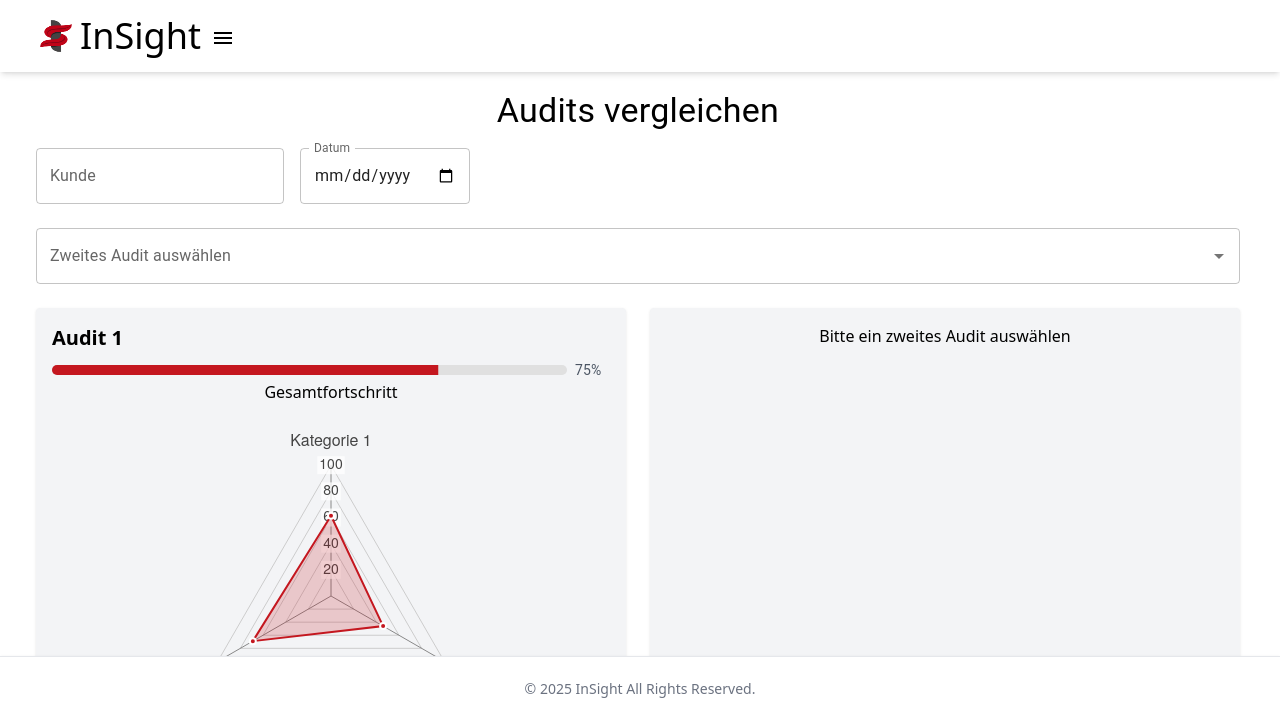
Test case: CompareAudits Page › validates the radar chart for the second audit
Click the button named "Open" at [1219, 256], box top-left (1205, 242), bottom-right (1233, 270)
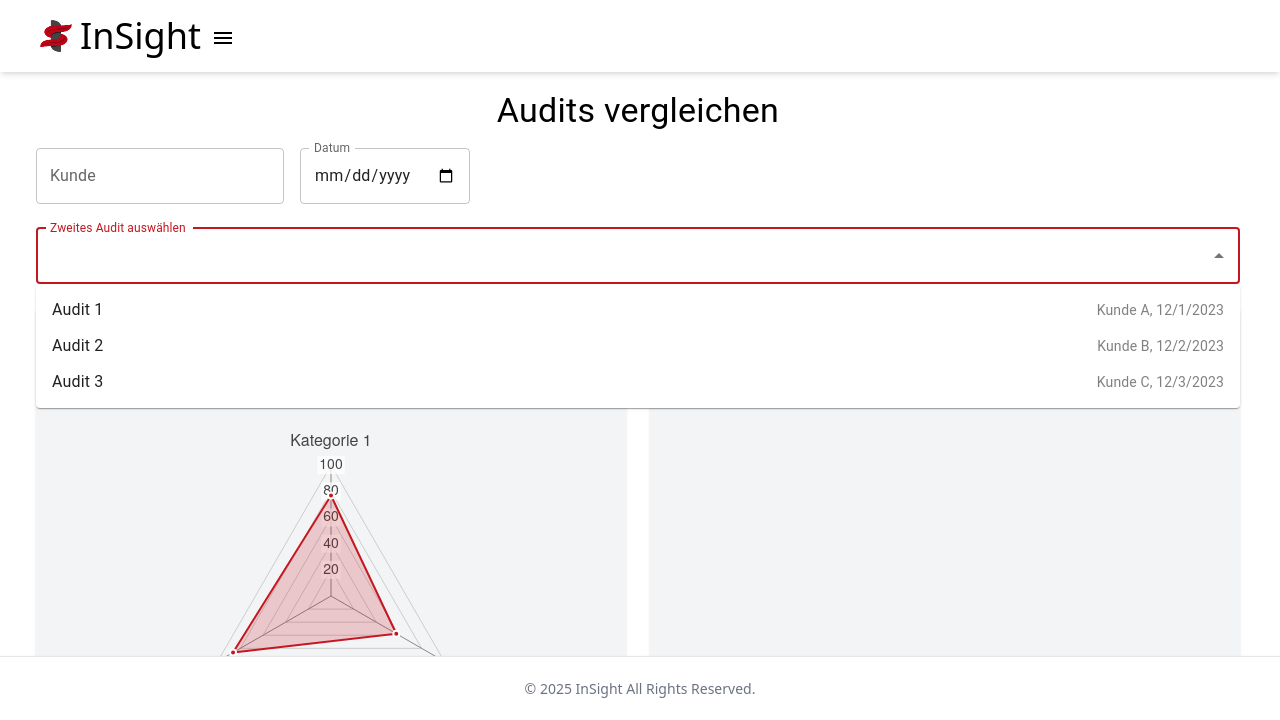
Click the text "Audit 2" at [78, 346], box top-left (52, 336), bottom-right (103, 355)
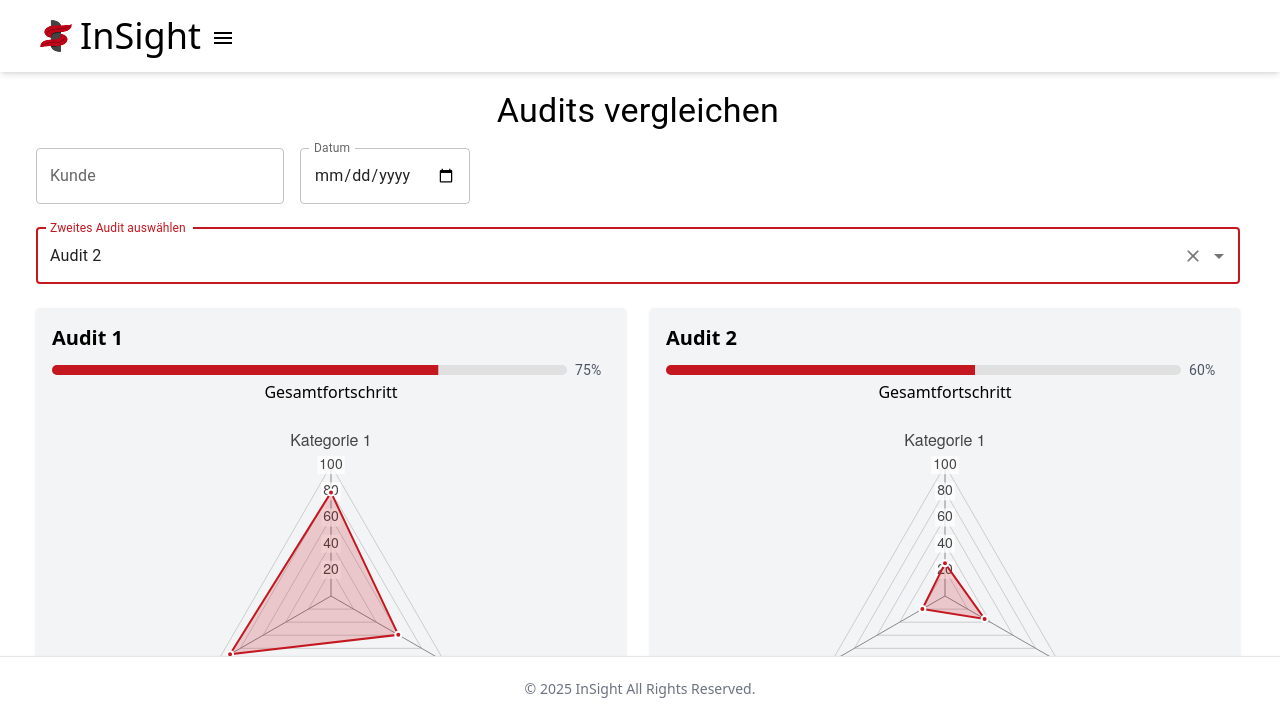
Now the 2nd element with test id "RadarChart" is shown, box top-left (666, 404), bottom-right (1224, 719)
Now the picture below "60%" is shown, box top-left (682, 420), bottom-right (1208, 719)
